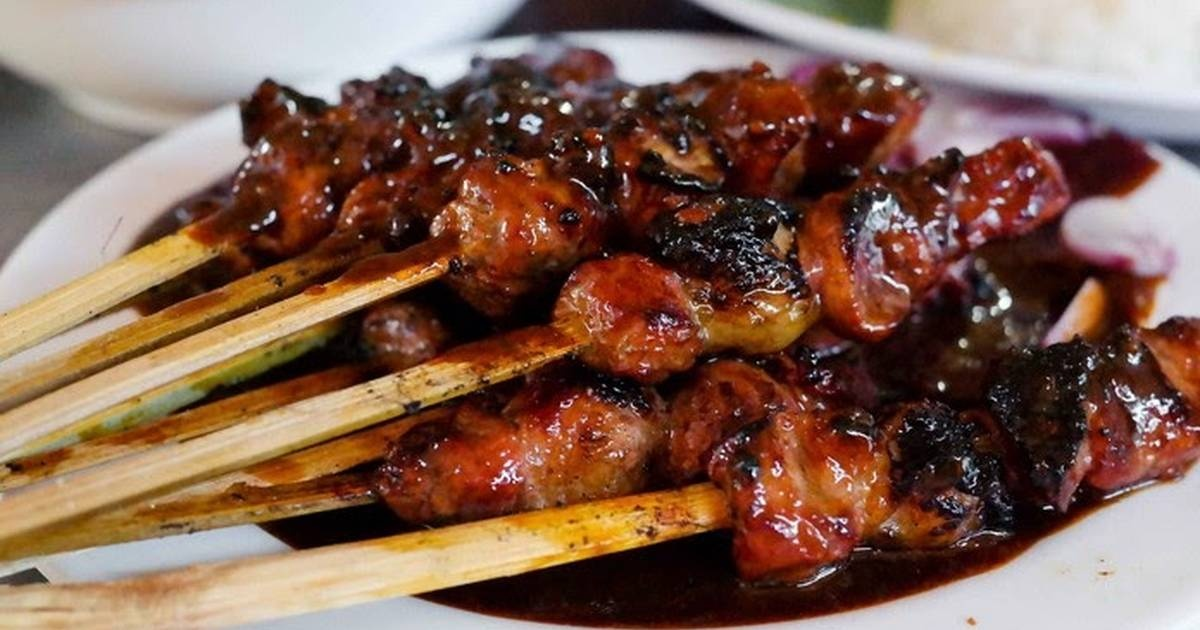sate_madura: (4, 48, 1200, 630)
